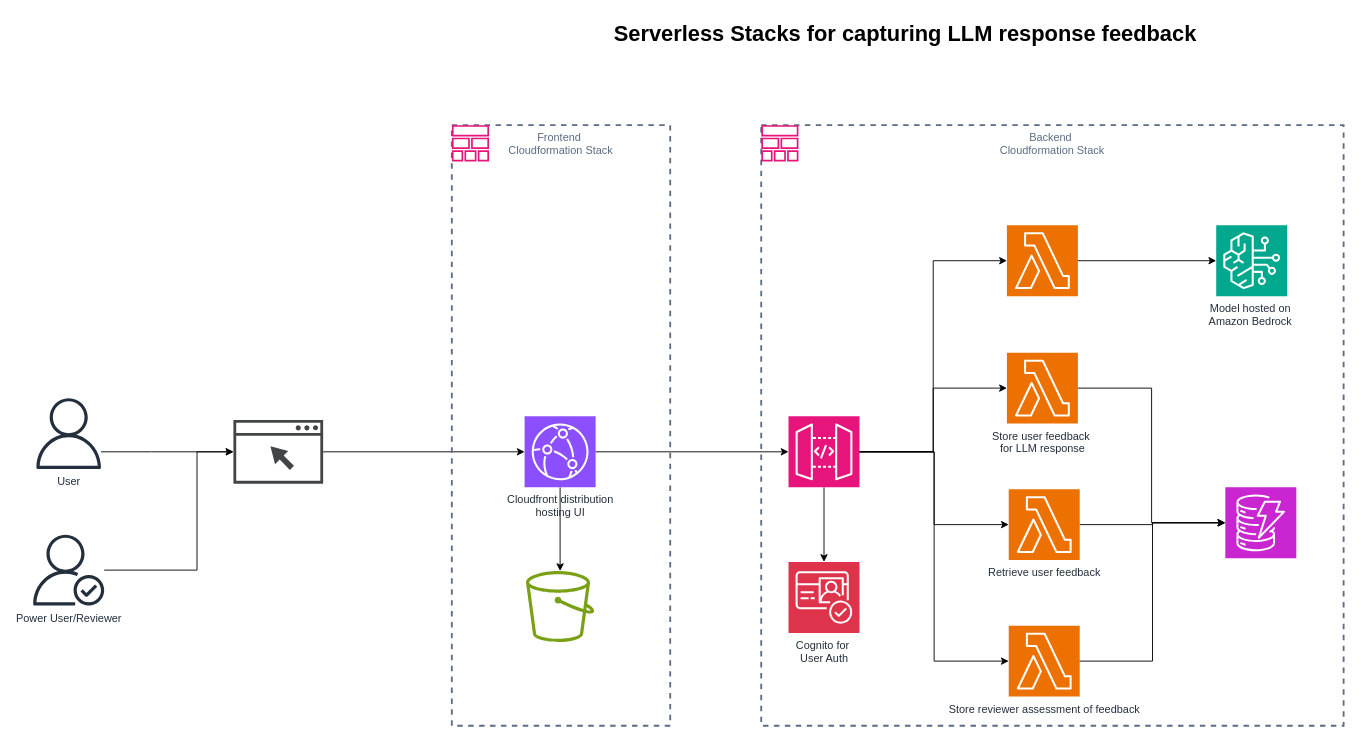
This 1360x742 diagram has some shape labels left out. Each missing label, with the centre of its shape:
"APIs" belongs at point (823, 451).
"Browser" belongs at point (278, 451).
"Bucket hosting UI for Single Page Application" belongs at point (560, 606).
"Converse with LLM" belongs at point (1042, 260).
"DynamoDB datastore for user feedback" belongs at point (1260, 522).
